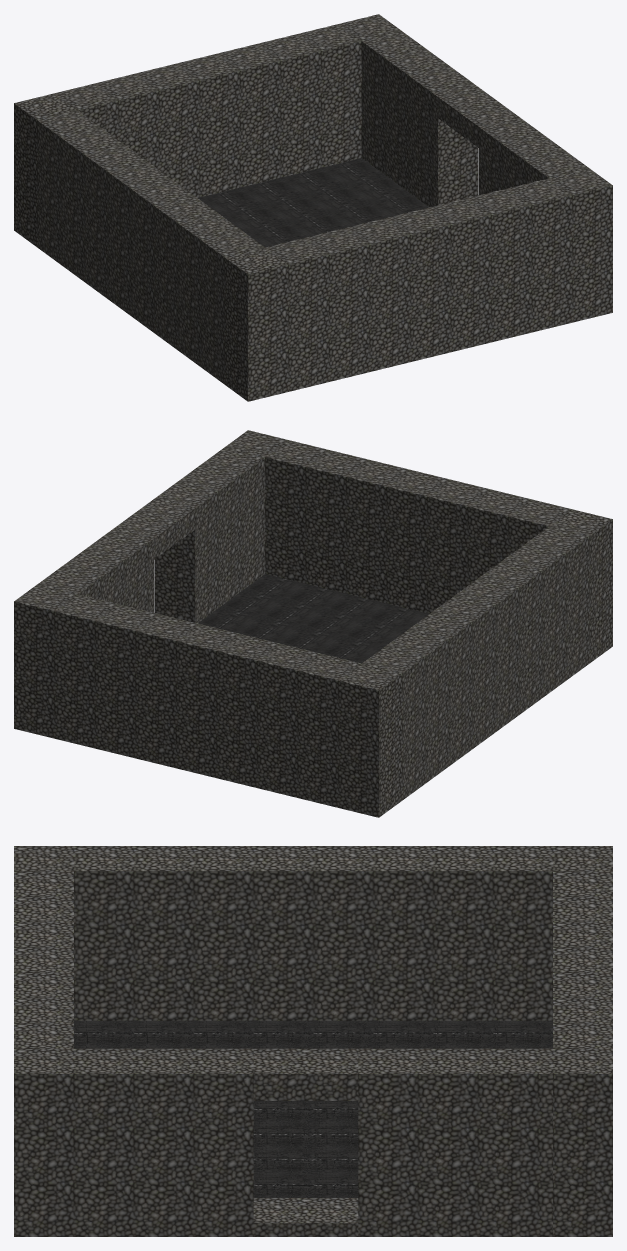
Rendered from TestRoom.unity_8.obj.
The picture shows the model from 3 angles, top to bottom: view 1: azimuth 30°, elevation 25°; view 2: azimuth 150°, elevation 25°; view 3: azimuth 270°, elevation 25°; orthographic projection. The views are drawn at different scales.
Visible parts, largest first — view 1: NorthWall, EastWall, SouthWall, WestWall1, Floor, WestWall3; view 2: SouthWall, EastWall, NorthWall, WestWall3, Floor, WestWall1; view 3: EastWall, WestWall1, WestWall3, Floor, SouthWall, NorthWall, DoorFrame.
Boxes of the visible parts, x1,y1,x2,y2 form: NorthWall: (224, 168, 612, 400); EastWall: (14, 95, 288, 401); SouthWall: (14, 14, 401, 246); WestWall1: (361, 31, 518, 207); Floor: (198, 158, 428, 247); WestWall3: (478, 117, 588, 195); SouthWall: (14, 584, 402, 817); EastWall: (338, 509, 612, 817); NorthWall: (225, 430, 612, 655); WestWall3: (154, 447, 265, 623); Floor: (198, 574, 428, 663); WestWall1: (38, 498, 194, 612); EastWall: (14, 846, 612, 1020); WestWall1: (253, 1048, 552, 1236); WestWall3: (74, 1048, 253, 1236); Floor: (74, 1020, 552, 1197); SouthWall: (553, 846, 612, 1236); NorthWall: (14, 846, 73, 1236); DoorFrame: (253, 1198, 358, 1236).
Size of the model in its own units: 9 by 3 by 10.
